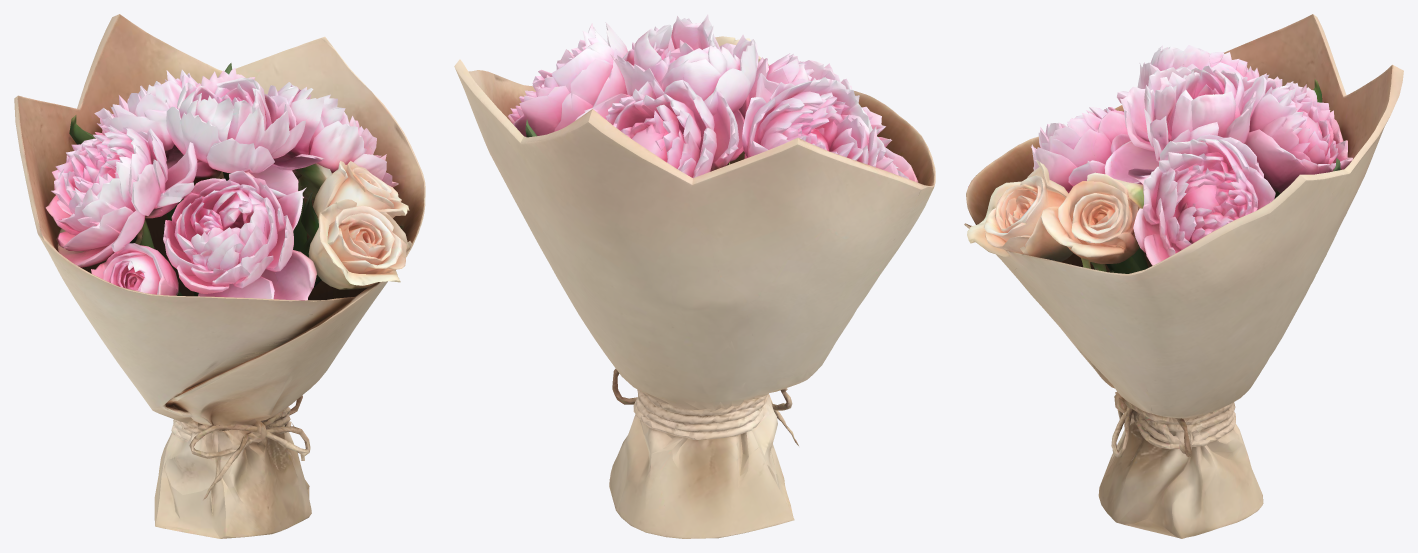
File: bukiet.glb
3 renders of one model, left to right at view 1: azimuth 30°, elevation 25°; view 2: azimuth 150°, elevation 25°; view 3: azimuth 270°, elevation 25°, orthographic. The views are drawn at different scales.
Visible parts, largest first — view 1: model; view 2: model; view 3: model.
Boxes of the visible parts, left/top/right/bottom form: model: left=14, top=14, right=425, bottom=538; model: left=454, top=14, right=935, bottom=538; model: left=964, top=14, right=1403, bottom=538.
Bounding box in the file's own units: 1.74 × 1.9 × 1.76.
Materials: 1 (1 with a texture image).
